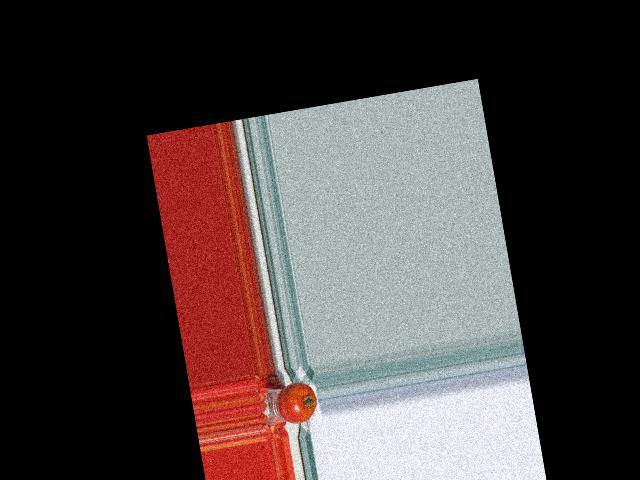tomato: (274, 379, 320, 427)
